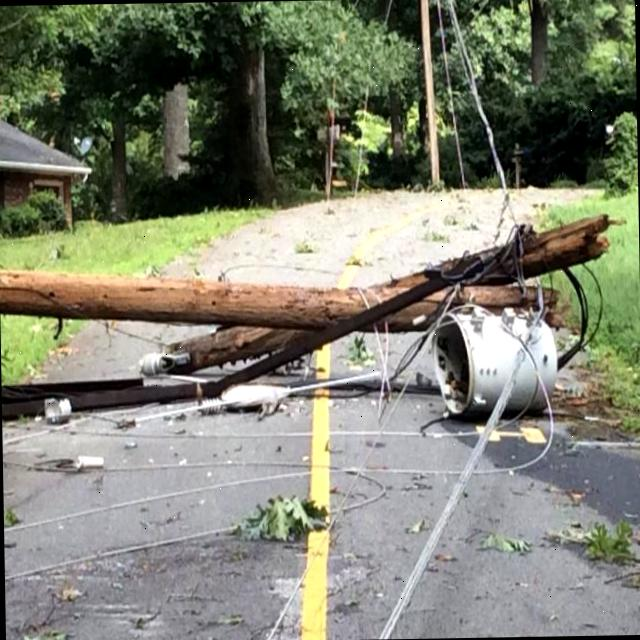Broken Pole: (0, 210, 628, 413)
